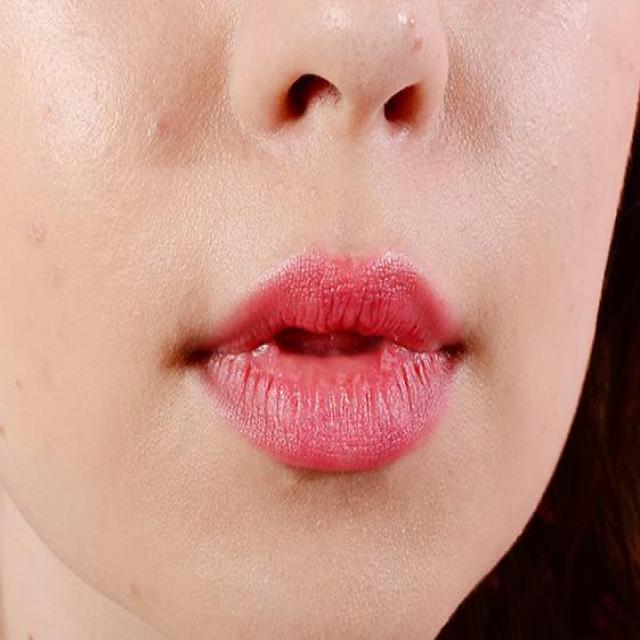Pimples: (142, 116, 170, 148), (402, 10, 422, 42)
